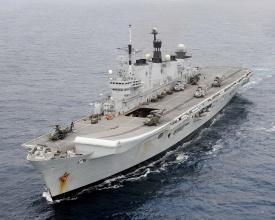warship: (17, 21, 253, 200)
